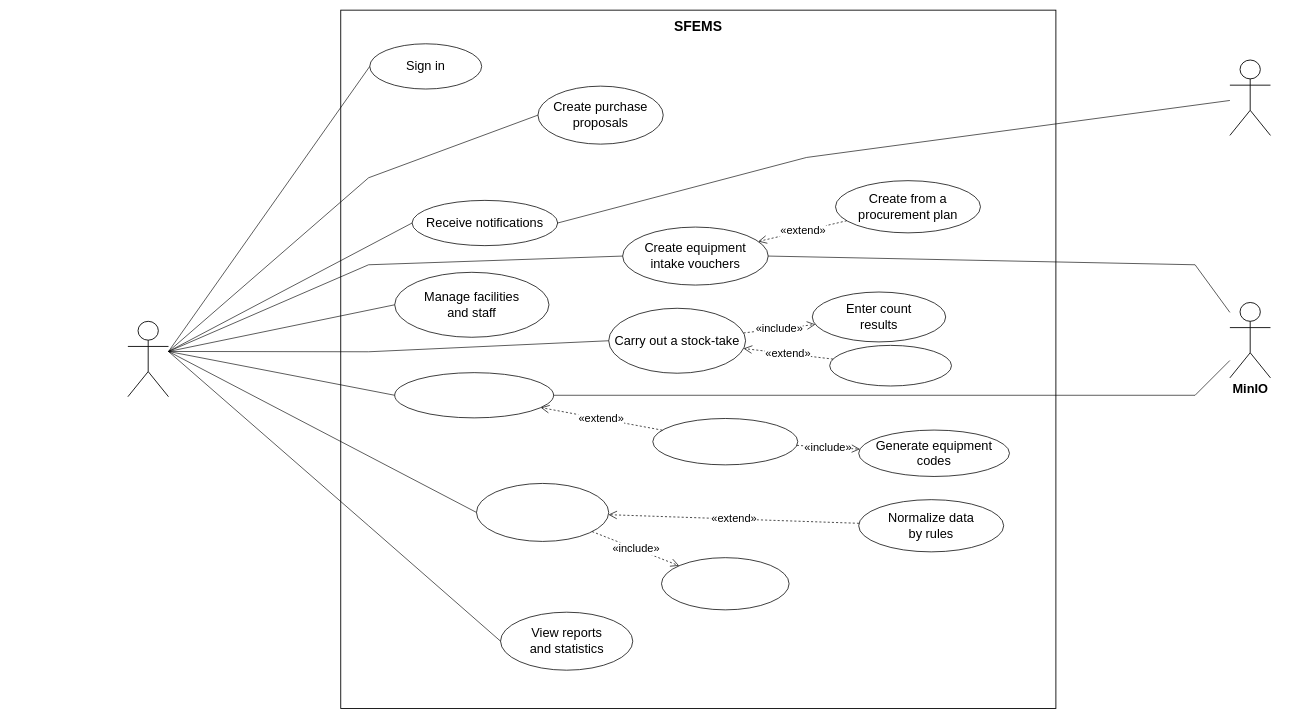
Some shapes in this 1293 by 719 pixel diagram are drawn without their labels. Each missing label, with the box of its shape:
Check file data: (661, 557, 789, 610)
Export records: (829, 345, 952, 386)
Give standard codes: (652, 418, 798, 465)
Import initial data: (476, 483, 609, 542)
Mail server (SMTP): (1229, 59, 1271, 136)
Manage equipment: (394, 372, 554, 418)
School Equipment Officer: (127, 321, 169, 397)
